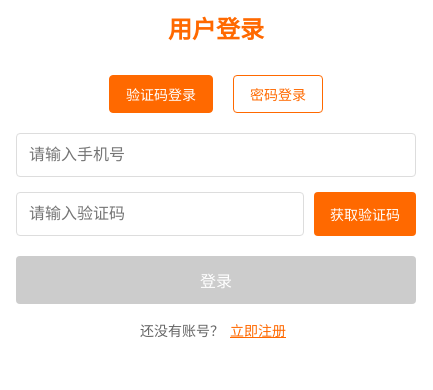
Test case: LoginForm › 应该显示登录错误信息
Step 1. Type "13800138000" into the field with placeholder "请输入手机号" → (216, 155), box [16,133,416,177]
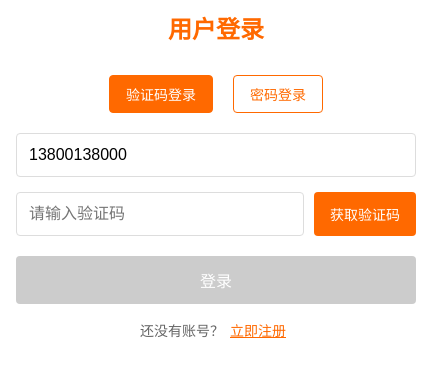
Step 2. Type "000000" into the field with placeholder "请输入验证码" → (160, 214), box [16,192,304,236]
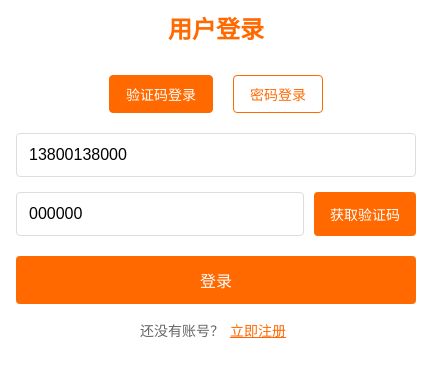
Step 3. Click the button "登录" → (216, 280), box [16,256,416,304]
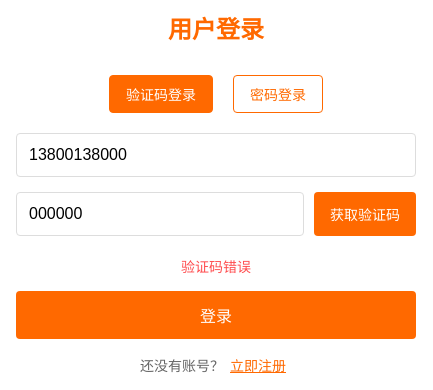
Expected: the text "验证码错误" is shown, [181,259,251,275]
